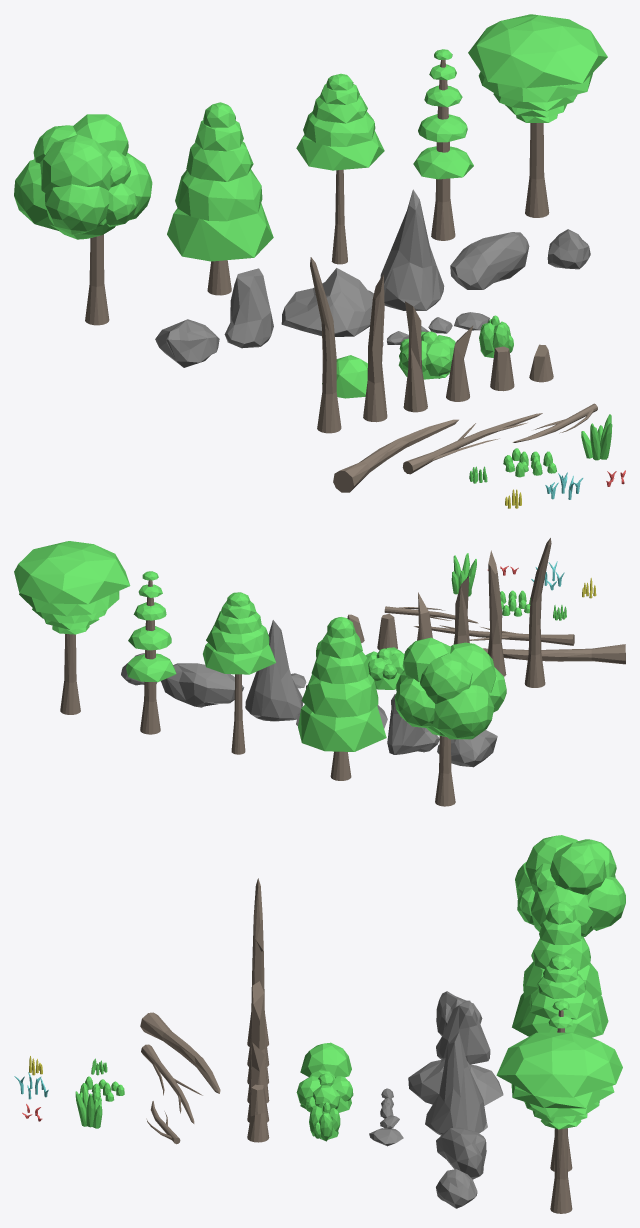
The model's file is forest_assets.gltf.
3 renders of one model, top to bottom at view 1: azimuth 30°, elevation 25°; view 2: azimuth 150°, elevation 25°; view 3: azimuth 270°, elevation 25°, orthographic. The views are drawn at different scales.
Parts seen in each view (by area): view 1: Sphere.017, Sphere.034, Sphere.005, Sphere.011, Sphere.028, rock.008, rock.007, rock.009, rock.006, Sphere.052, Sphere.054, rock.005 (+13 smaller); view 2: Sphere.017, Sphere.034, Sphere.005, Sphere.011, Sphere.028, rock.008, rock.009, Sphere.052, Sphere.058, rock.006, Sphere.054, Sphere.036 (+8 smaller); view 3: Sphere.034, Sphere.017, Sphere.005, Sphere.011, rock.008, rock.006, rock.007, rock.009, Sphere.036, Sphere.058, Sphere.035, rock.010 (+12 smaller).
Part boxes in pixels (box(x1,y1,x2,y2)): Sphere.017: box(14, 114, 152, 325); Sphere.034: box(468, 14, 607, 217); Sphere.005: box(167, 102, 273, 295); Sphere.011: box(296, 73, 384, 264); Sphere.028: box(413, 49, 473, 240); rock.008: box(380, 189, 444, 310); rock.007: box(281, 268, 373, 336); rock.009: box(450, 232, 529, 289); rock.006: box(224, 268, 273, 348); Sphere.052: box(310, 257, 341, 433); Sphere.054: box(363, 274, 387, 422); rock.005: box(155, 319, 219, 367); Sphere.017: box(394, 637, 506, 806); Sphere.034: box(14, 541, 130, 714); Sphere.005: box(298, 617, 386, 780); Sphere.011: box(203, 592, 275, 754); Sphere.028: box(126, 571, 176, 734); rock.008: box(245, 620, 303, 721); rock.009: box(161, 663, 244, 707); Sphere.052: box(524, 538, 551, 687); Sphere.058: box(483, 644, 625, 664); rock.006: box(387, 694, 439, 754); Sphere.054: box(487, 550, 506, 676); Sphere.036: box(365, 647, 404, 689); Sphere.034: box(496, 1032, 622, 1213); Sphere.017: box(515, 835, 625, 937); Sphere.005: box(512, 901, 608, 1037); Sphere.011: box(520, 954, 600, 1035); rock.008: box(425, 1032, 487, 1135); rock.006: box(436, 1000, 490, 1064); rock.007: box(408, 1058, 503, 1105); rock.009: box(436, 1127, 486, 1179); Sphere.036: box(296, 1069, 353, 1112); Sphere.058: box(140, 1012, 220, 1093); Sphere.035: box(300, 1042, 351, 1077); rock.010: box(436, 1169, 477, 1208).
Size of the model in its own units: 5.86 by 2.02 by 6.13.
